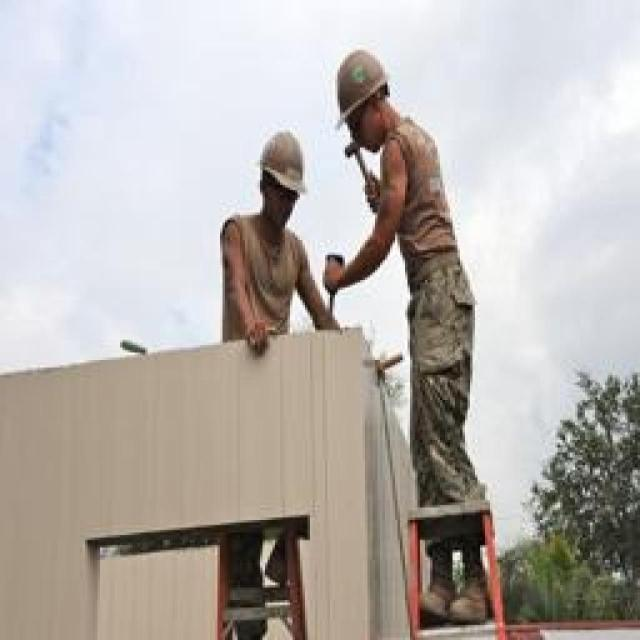Helmet: (350, 108, 474, 338), (205, 198, 325, 343), (302, 40, 412, 145), (242, 115, 320, 209)
